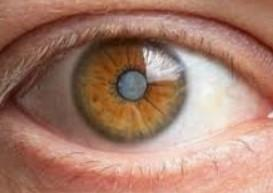eye: (72, 36, 189, 145)
